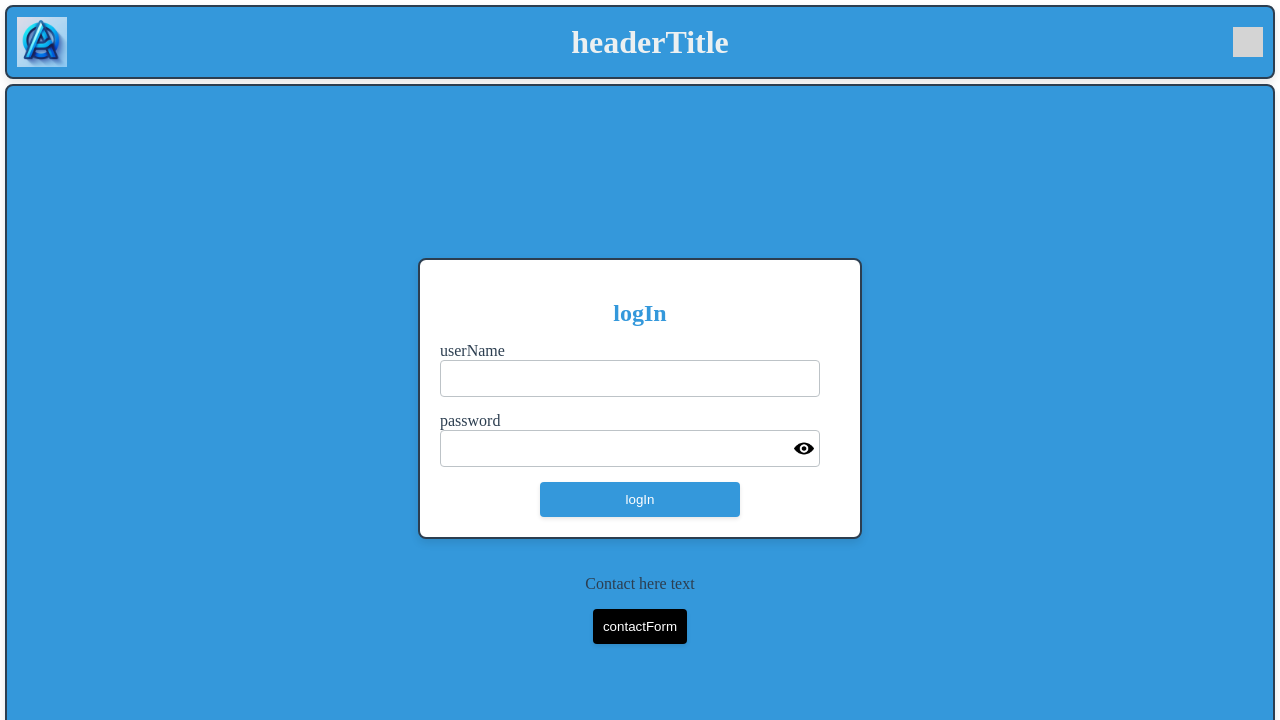
LoginPage › toggles to contactForm when button is clicked
This screenshot has width=1280, height=720.
Click the button "contactForm": [640, 626] box 593,609 -> 687,644
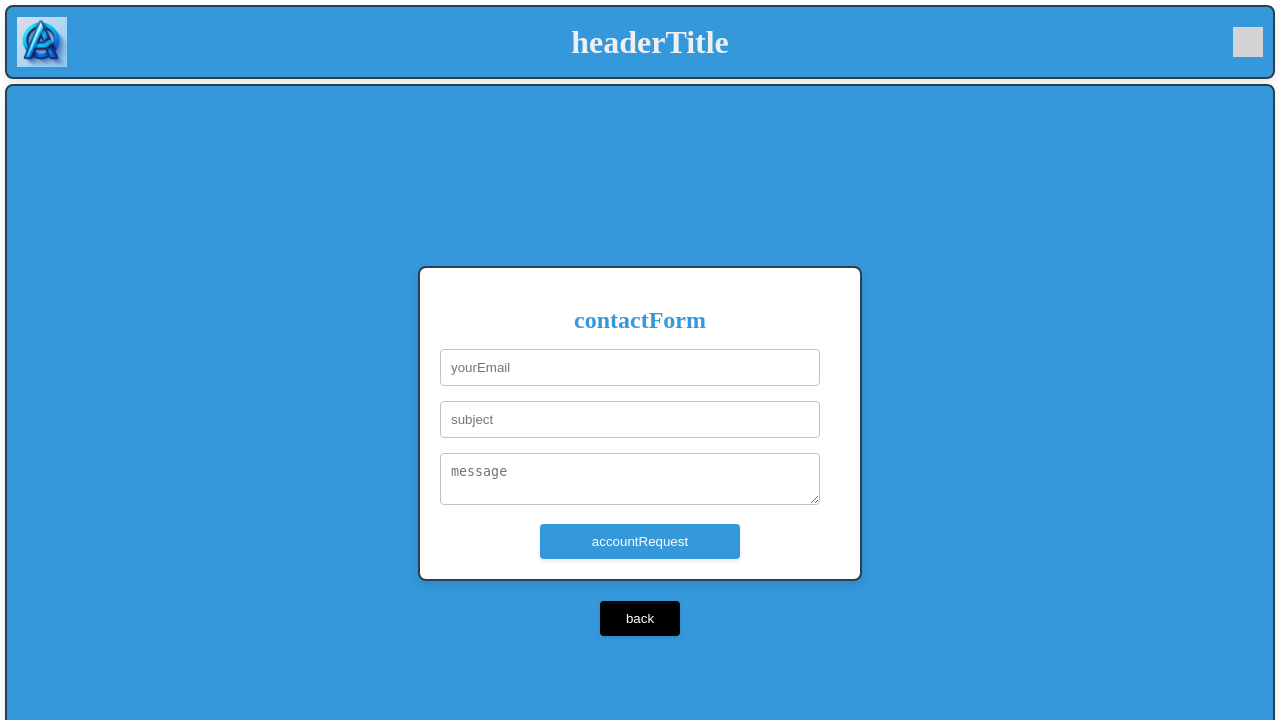
Check: the button "accountRequest" is shown, box 540,524 -> 740,560
